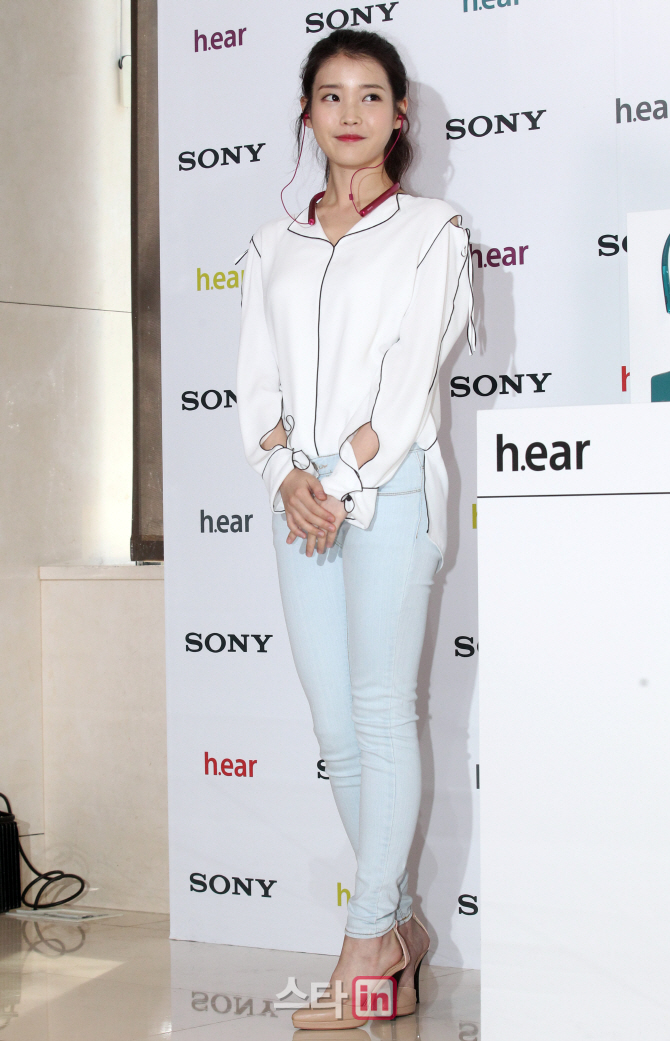earphone: (393, 97, 408, 129), (299, 97, 313, 128)
